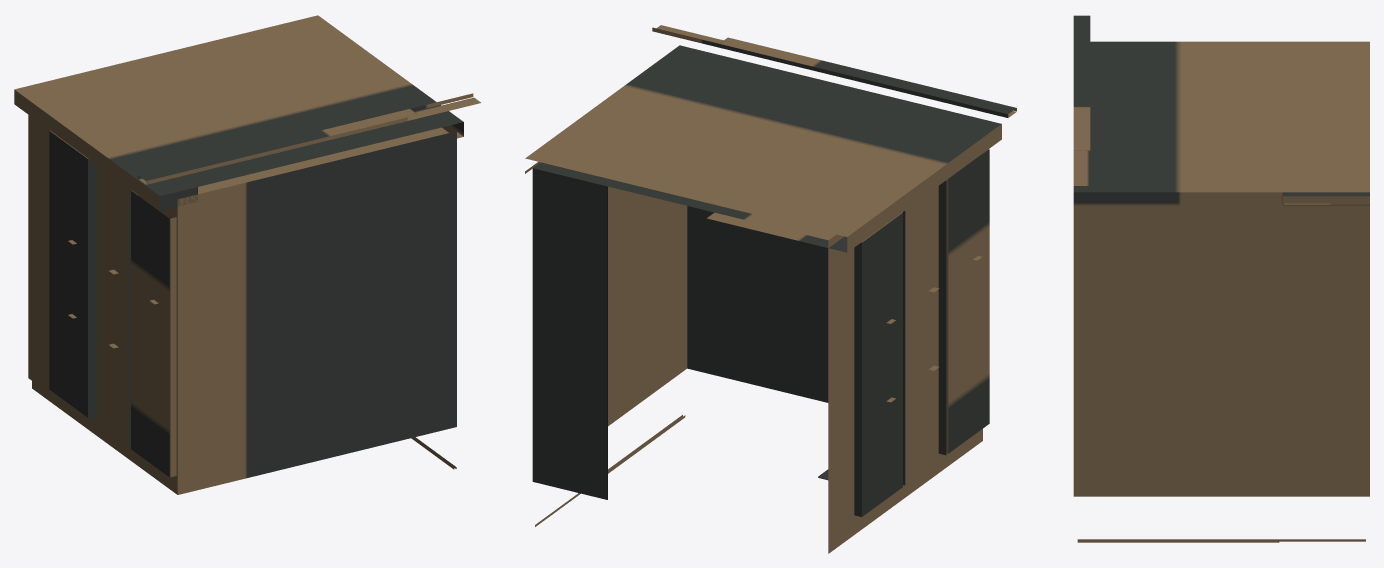
File: section-5.obj
The picture shows the model from 3 angles, left to right: view 1: azimuth 30°, elevation 25°; view 2: azimuth 150°, elevation 25°; view 3: azimuth 270°, elevation 25°; orthographic projection. The views are drawn at different scales.
Size of the model in its own units: 0.96 by 0.99 by 0.76.
